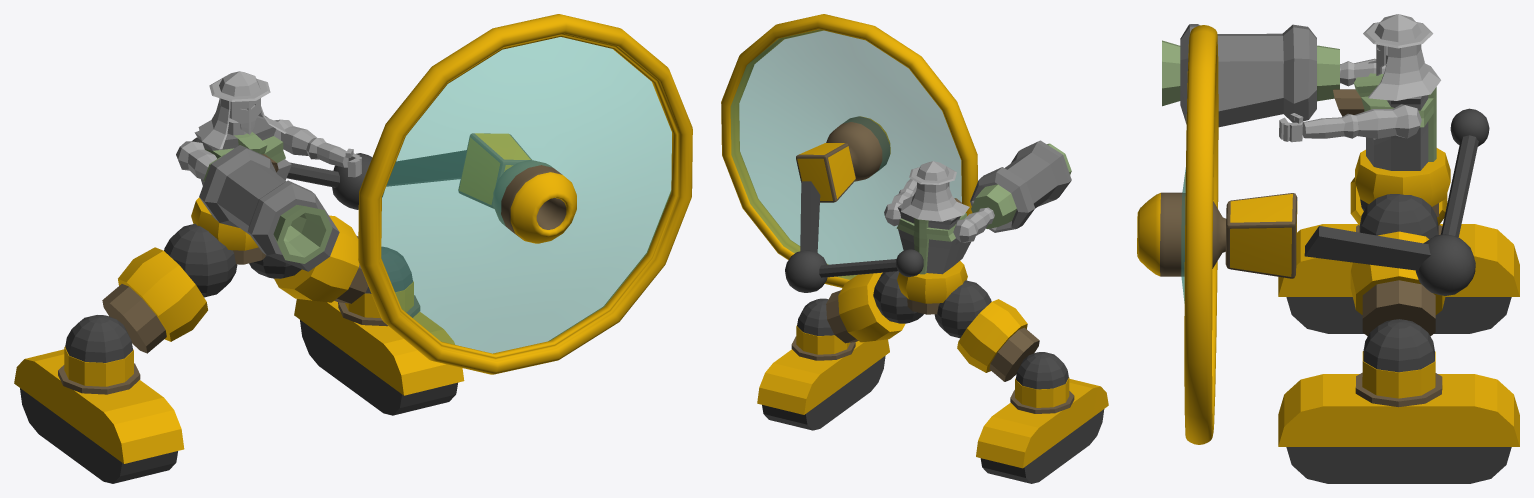
Rendered from shield cannon knight combo.fbx.
3 renders of one model, left to right at view 1: azimuth 30°, elevation 25°; view 2: azimuth 150°, elevation 25°; view 3: azimuth 270°, elevation 25°, orthographic. The views are drawn at different scales.
Visible parts, largest first — view 1: SCK_polySurface99, SCK_polySurface84, SCK_polySurface71, SCK__pCylinder26, SCK__robo_knight_head_1, SCK__torso1, SCK_polySurface98, SCK__shoulder_R, SCK__shoulder_L, SCK__elbow_L; view 2: SCK_polySurface99, SCK_polySurface84, SCK_polySurface71, SCK__pCylinder26, SCK__torso1, SCK__robo_knight_head_1, SCK_polySurface98, SCK__shoulder_R, SCK__shoulder_L; view 3: SCK_polySurface71, SCK_polySurface99, SCK_polySurface84, SCK__pCylinder26, SCK__robo_knight_head_1, SCK__torso1, SCK_polySurface98, SCK__shoulder_L, SCK__elbow_L, SCK__pCylinder25, SCK__hand_L.
Part boxes in pixels (x1,y1,x2,y2): SCK_polySurface99: [192, 14, 692, 374]; SCK_polySurface84: [14, 223, 237, 483]; SCK_polySurface71: [249, 215, 464, 415]; SCK__pCylinder26: [199, 145, 339, 271]; SCK__robo_knight_head_1: [198, 71, 286, 149]; SCK__torso1: [194, 116, 291, 185]; SCK_polySurface98: [191, 197, 265, 264]; SCK__shoulder_R: [176, 141, 216, 179]; SCK__shoulder_L: [274, 119, 316, 155]; SCK__elbow_L: [306, 138, 348, 167]; SCK_polySurface99: [721, 14, 977, 292]; SCK_polySurface84: [934, 280, 1108, 483]; SCK_polySurface71: [757, 271, 923, 430]; SCK__pCylinder26: [970, 140, 1071, 232]; SCK__torso1: [896, 203, 970, 274]; SCK__robo_knight_head_1: [901, 161, 969, 221]; SCK_polySurface98: [897, 261, 967, 314]; SCK__shoulder_R: [953, 211, 990, 242]; SCK__shoulder_L: [884, 191, 911, 226]; SCK_polySurface71: [1278, 194, 1519, 483]; SCK_polySurface99: [1137, 25, 1489, 444]; SCK_polySurface84: [1278, 177, 1519, 333]; SCK__pCylinder26: [1162, 24, 1339, 127]; SCK__robo_knight_head_1: [1363, 14, 1440, 100]; SCK__torso1: [1354, 73, 1436, 170]; SCK_polySurface98: [1355, 148, 1450, 217]; SCK__shoulder_L: [1354, 104, 1421, 138]; SCK__elbow_L: [1302, 113, 1358, 138]; SCK__pCylinder25: [1333, 89, 1364, 116]; SCK__hand_L: [1279, 113, 1303, 142].
Size of the model in its own units: 5290 by 3885 by 2977.
